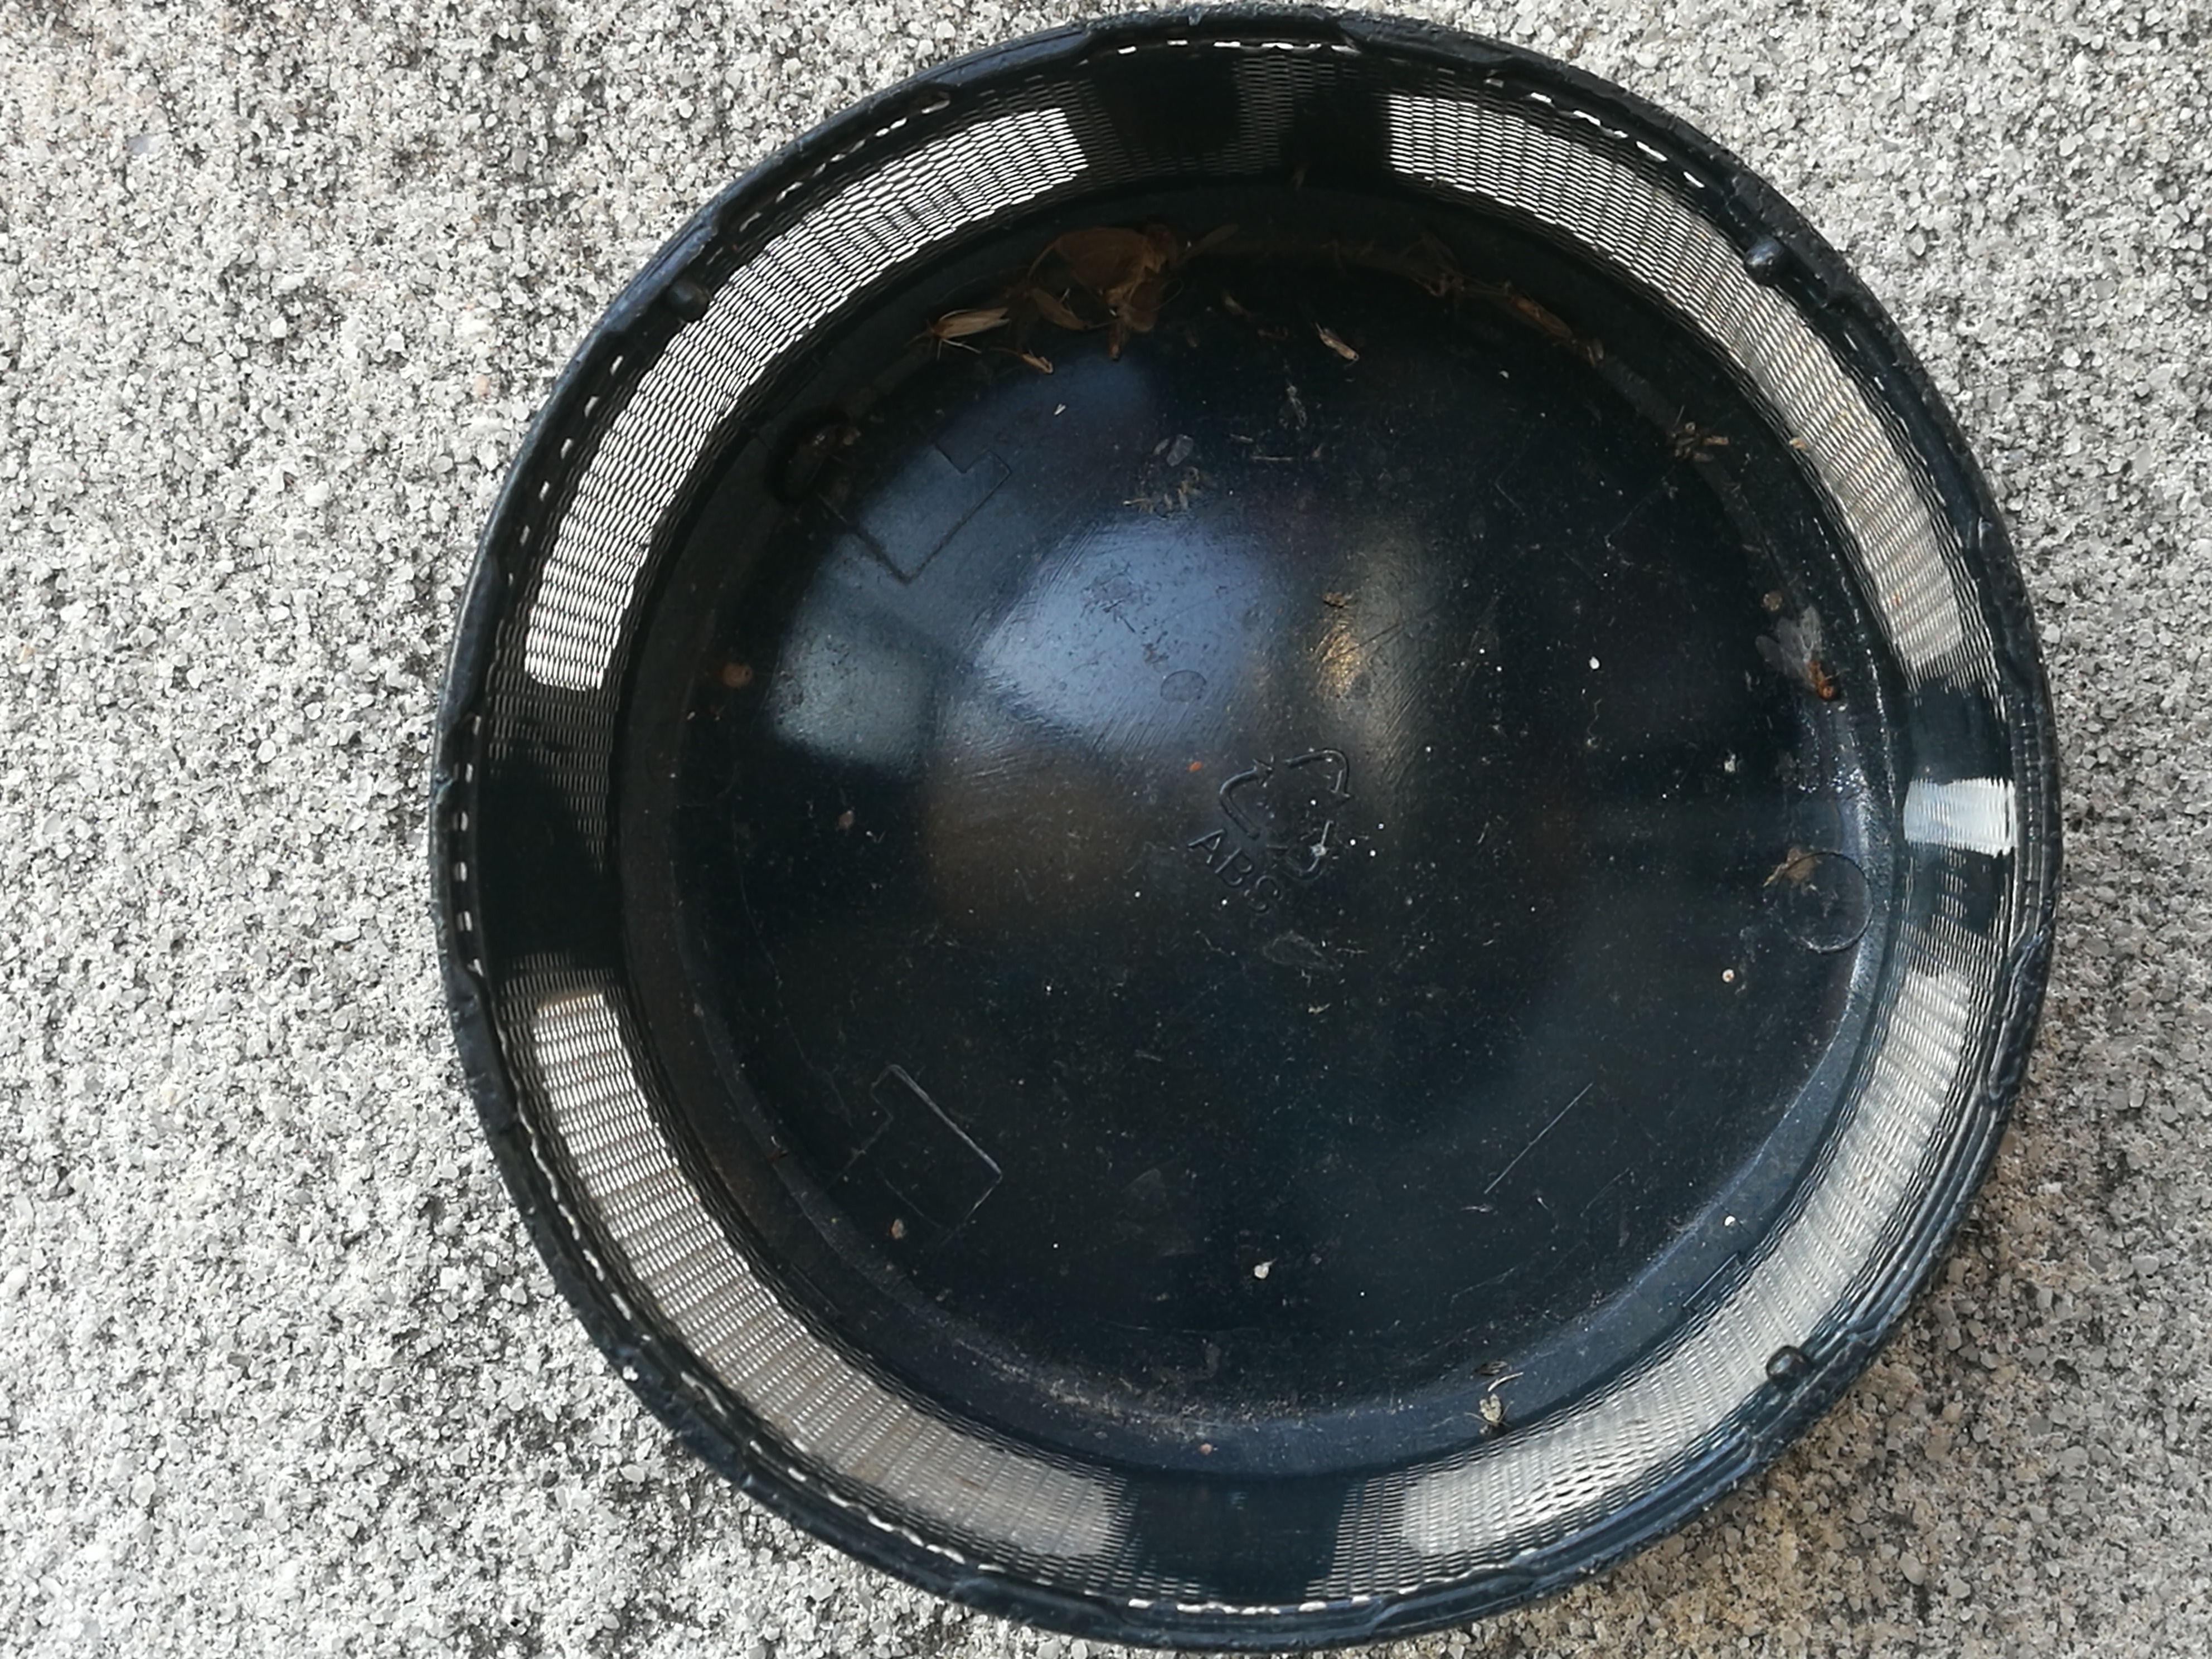beetle: (777, 413, 840, 500)
mosquito: (1510, 295, 1573, 338), (1031, 288, 1092, 331), (925, 307, 1008, 338), (1320, 329, 1359, 359)
moth: (1055, 228, 1177, 331), (1757, 606, 1834, 697), (1480, 1394, 1501, 1424)
